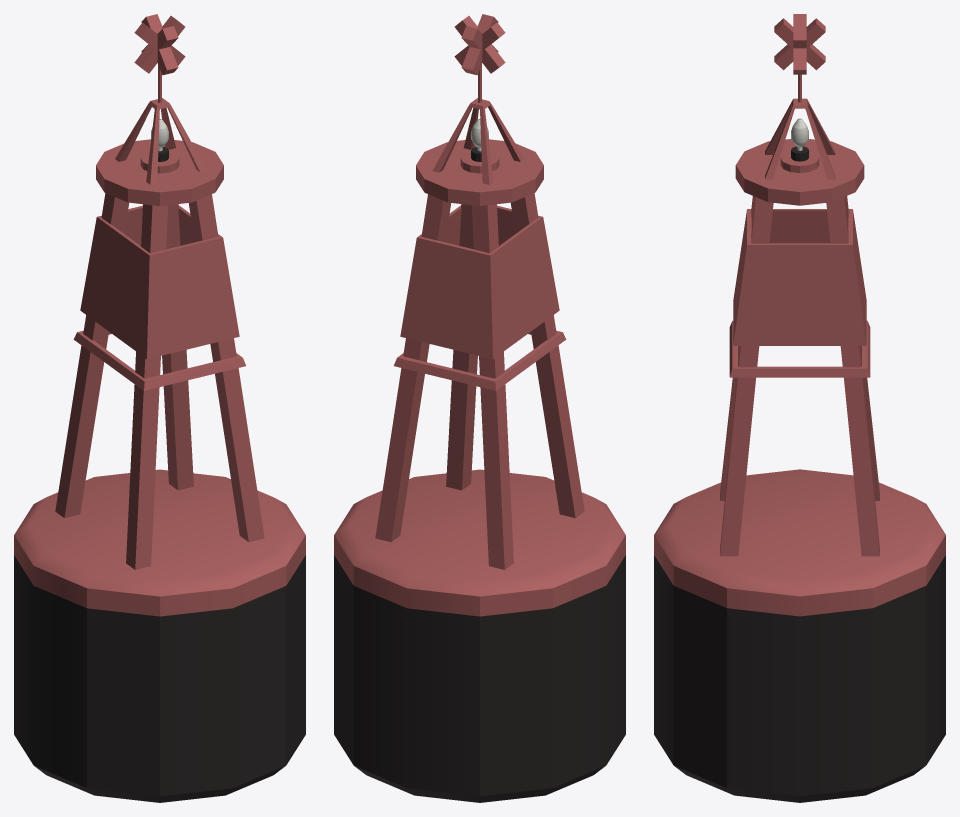
The model's file is Buoys_Xis.fbx.
The picture shows the model from 3 angles, left to right: view 1: azimuth 30°, elevation 25°; view 2: azimuth 150°, elevation 25°; view 3: azimuth 270°, elevation 25°; orthographic projection.
Visible parts, largest first — view 1: pCylinder9, pCube25, pCube26, pCylinder10, pCube27, pCube29, pCube35, pCube32; view 2: pCylinder9, pCube25, pCube26, pCylinder10, pCube27, pCube29, pCube34, pCube32; view 3: pCylinder9, pCube26, pCube25, pCylinder10, pCube27, pCube29, pCube34, pCube35, pCylinder11, pCube33.
Boxes of the visible parts, left/top/right/bottom form: pCylinder9: left=14, top=469, right=305, bottom=802; pCube25: left=55, top=193, right=264, bottom=569; pCube26: left=80, top=205, right=239, bottom=359; pCylinder10: left=96, top=139, right=223, bottom=205; pCube27: left=73, top=330, right=245, bottom=390; pCube29: left=115, top=98, right=207, bottom=184; pCube35: left=141, top=14, right=178, bottom=75; pCube32: left=134, top=16, right=185, bottom=73; pCylinder9: left=334, top=469, right=625, bottom=802; pCube25: left=375, top=193, right=584, bottom=569; pCube26: left=400, top=205, right=559, bottom=359; pCylinder10: left=416, top=139, right=543, bottom=205; pCube27: left=394, top=330, right=566, bottom=390; pCube29: left=432, top=98, right=524, bottom=184; pCube34: left=461, top=14, right=498, bottom=75; pCube32: left=454, top=16, right=505, bottom=73; pCylinder9: left=654, top=469, right=945, bottom=802; pCube26: left=733, top=209, right=866, bottom=345; pCube25: left=720, top=196, right=879, bottom=556; pCylinder10: left=735, top=139, right=864, bottom=205; pCube27: left=729, top=320, right=870, bottom=377; pCube29: left=765, top=98, right=835, bottom=179; pCube34: left=774, top=18, right=825, bottom=70; pCube35: left=774, top=18, right=825, bottom=70; pCylinder11: left=780, top=150, right=819, bottom=172; pCube33: left=793, top=14, right=806, bottom=74.
Size of the model in its own units: 1.59 by 4.37 by 1.59.
